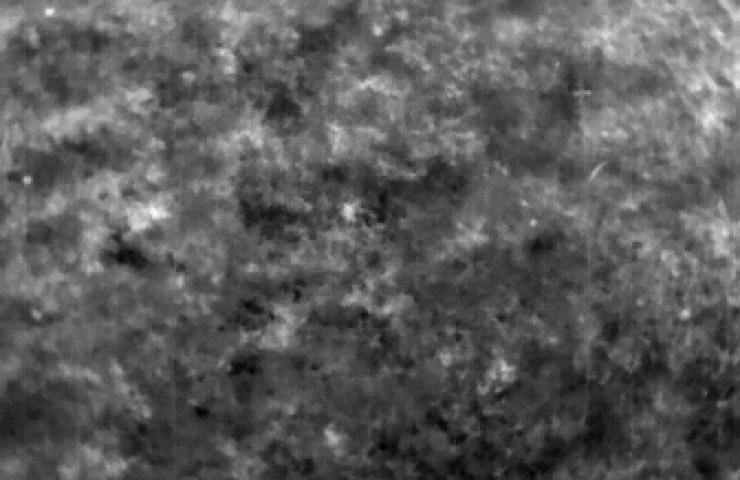landmines: (340, 198, 367, 225)
